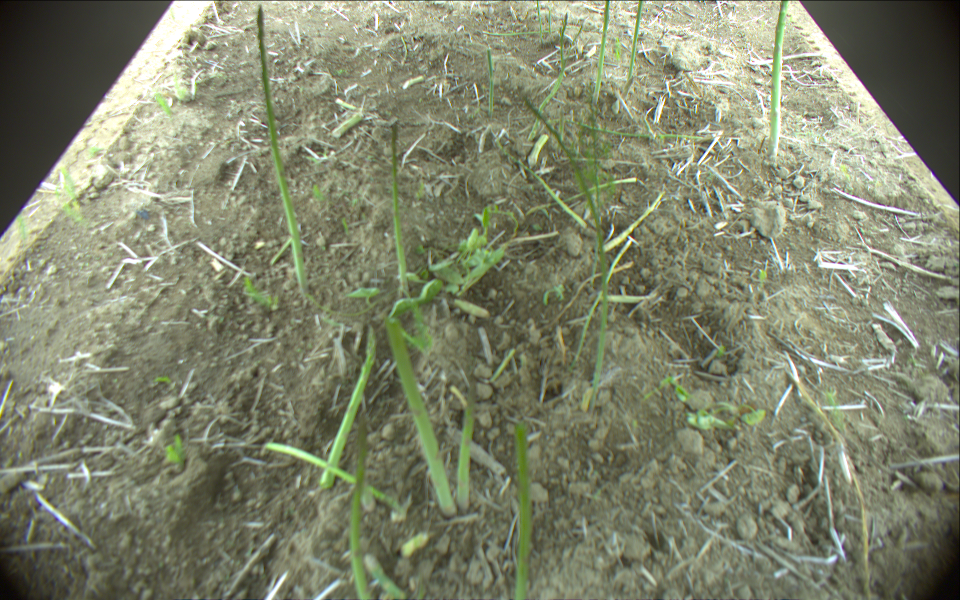aspa: (521, 97, 608, 414), (255, 5, 309, 295), (383, 316, 455, 516), (262, 442, 407, 514), (317, 322, 378, 489), (496, 139, 587, 230), (345, 414, 373, 600), (391, 118, 412, 306), (602, 191, 665, 252), (768, 1, 792, 158), (454, 371, 478, 512), (513, 422, 532, 600), (528, 66, 567, 140), (573, 121, 715, 140), (592, 1, 611, 105), (364, 555, 402, 600), (629, 1, 644, 80), (331, 113, 365, 139), (481, 28, 557, 38), (557, 13, 569, 70), (486, 51, 495, 116), (534, 1, 543, 40), (546, 9, 553, 36)
